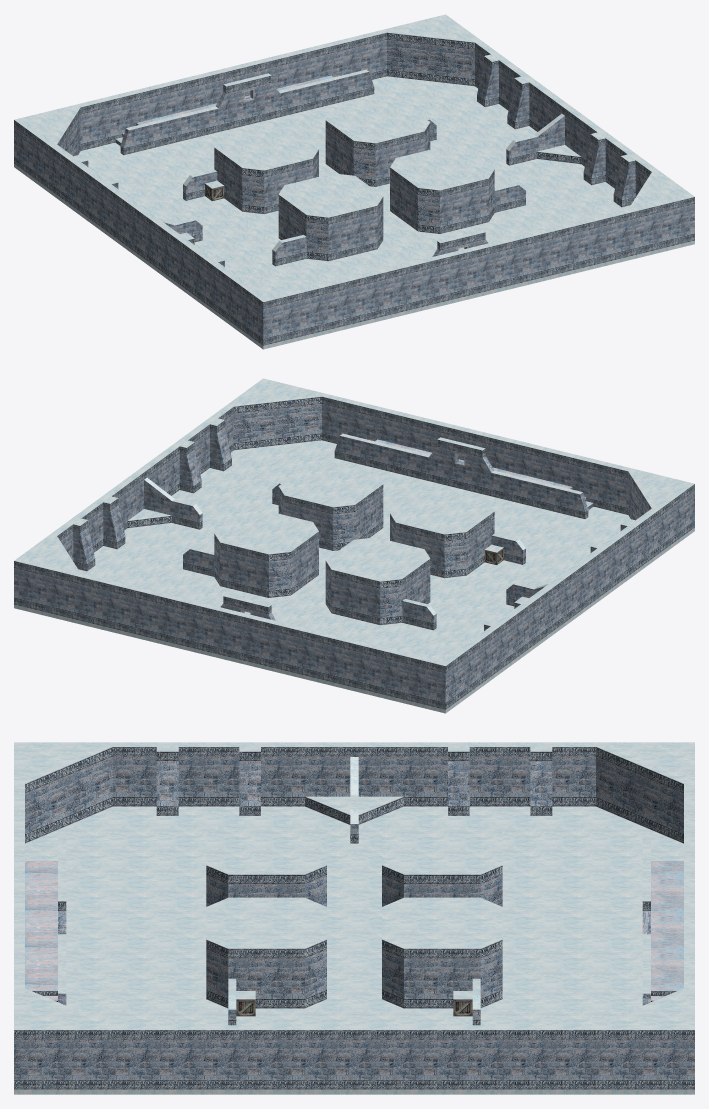
The model's file is fy_snow.dae.
3 views of the same model, one above another, from view 1: azimuth 30°, elevation 25°; view 2: azimuth 150°, elevation 25°; view 3: azimuth 270°, elevation 25° (orthographic). The views are drawn at different scales.
Parts seen in each view (by area): view 1: BSP_Object.model_0; view 2: BSP_Object.model_0; view 3: BSP_Object.model_0.
Boxes of the visible parts, x1,y1,x2,y2 form: BSP_Object.model_0: (14,14,694,349); BSP_Object.model_0: (14,378,694,713); BSP_Object.model_0: (14,742,694,1094).
Bounding box in the file's own units: 1984 × 400 × 1984.
Materials: 7 (6 with a texture image).
